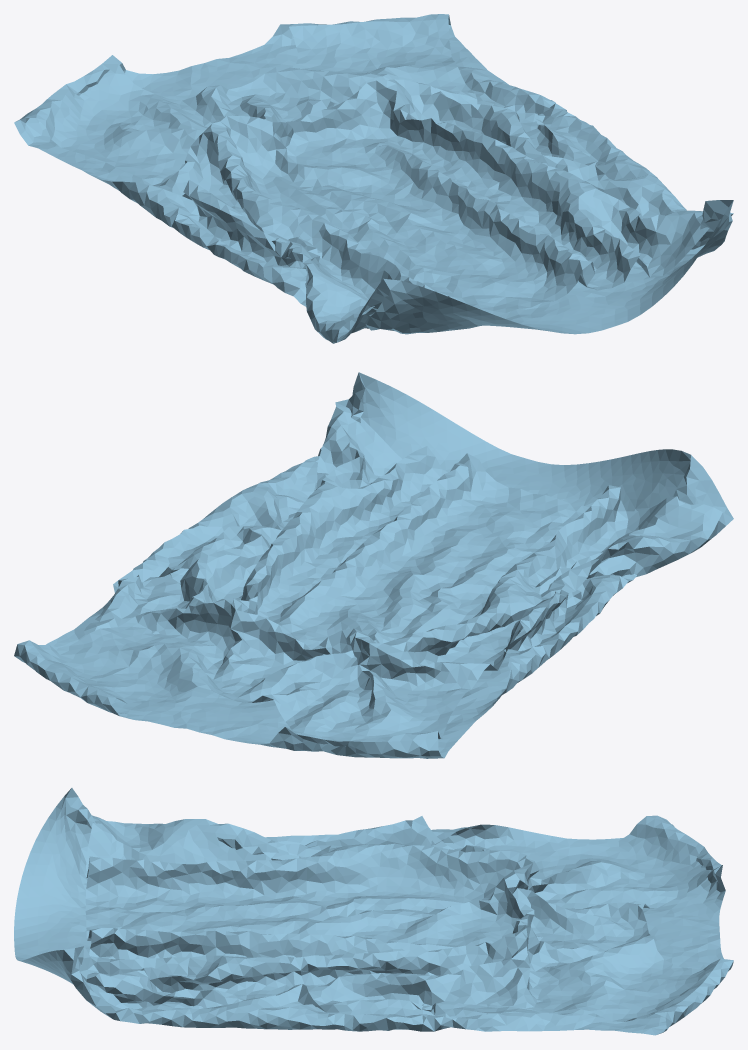
The model's file is frame_03.glb.
3 views of the same model, one above another, from view 1: azimuth 30°, elevation 25°; view 2: azimuth 150°, elevation 25°; view 3: azimuth 270°, elevation 25° (orthographic). The views are drawn at different scales.
Visible parts, largest first — view 1: frame_03.obj; view 2: frame_03.obj; view 3: frame_03.obj.
Boxes of the visible parts, bbox=[...] form: frame_03.obj: bbox=[14, 14, 733, 343]; frame_03.obj: bbox=[14, 372, 733, 758]; frame_03.obj: bbox=[14, 788, 733, 1035].
Bounding box in the file's own units: 1.23 × 0.2182 × 1.85.
